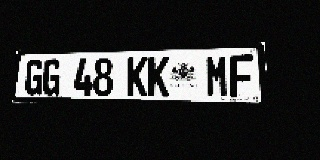4: (74, 58, 94, 96)
8: (93, 58, 114, 96)
F: (229, 54, 254, 97)
G: (24, 59, 44, 95), (42, 59, 62, 95)
K: (148, 56, 169, 97), (127, 57, 148, 96)
M: (205, 55, 229, 97)
